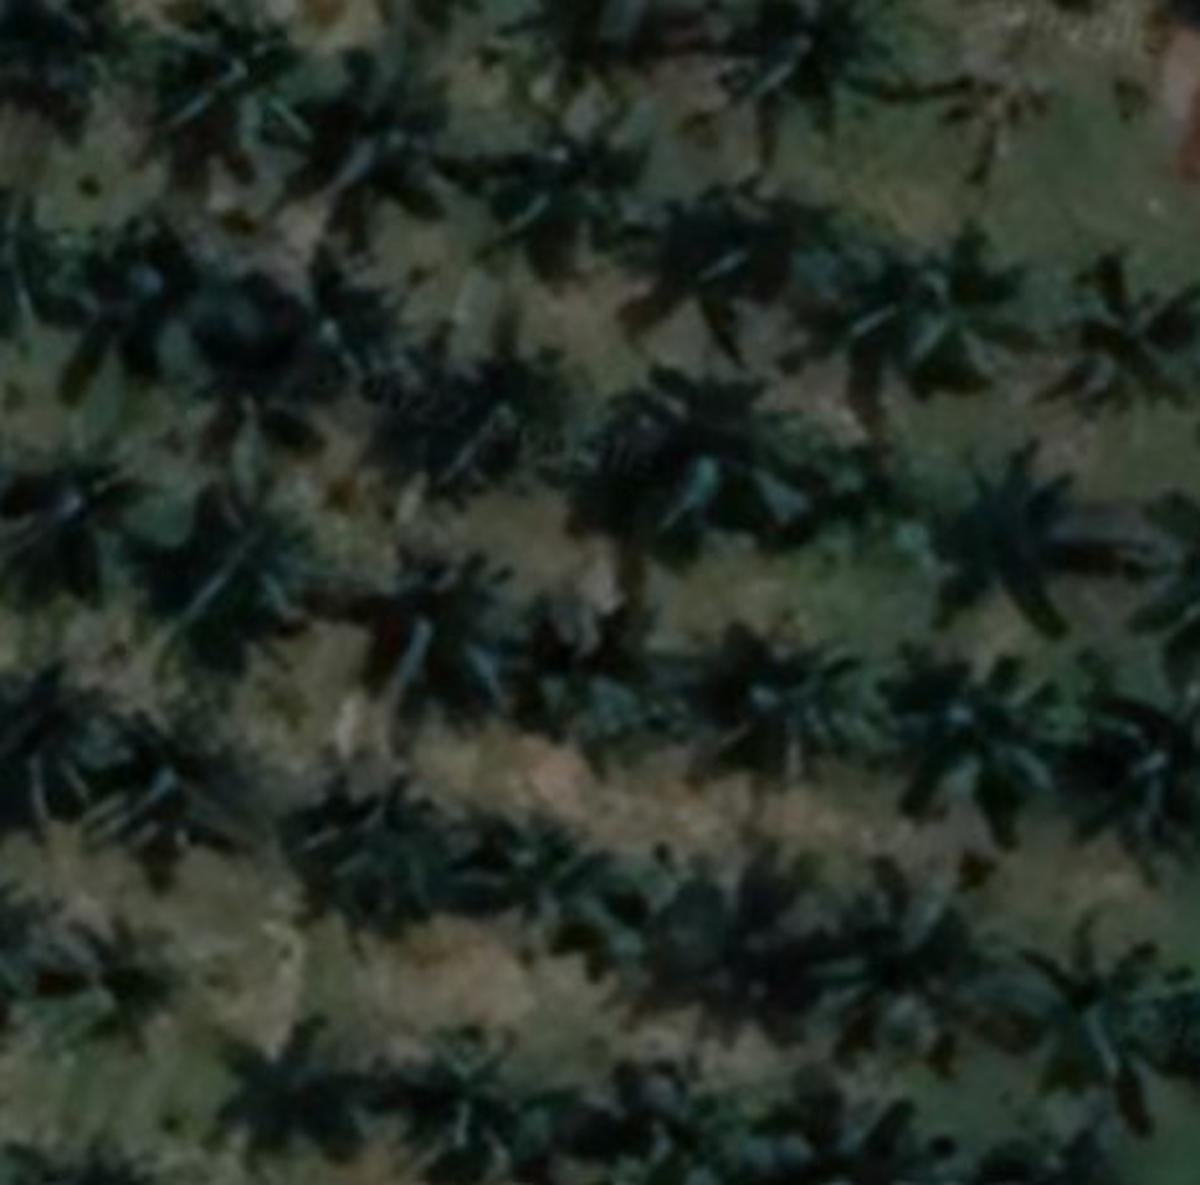coconut: (805, 838, 979, 1052), (635, 366, 830, 551), (687, 160, 888, 337), (917, 438, 1094, 630), (153, 492, 343, 657), (107, 700, 269, 884), (484, 100, 638, 284), (717, 620, 879, 795), (371, 543, 523, 715), (889, 220, 1054, 379), (464, 800, 615, 972), (1030, 913, 1174, 1090), (923, 638, 1061, 820), (323, 46, 461, 228), (528, 589, 671, 761), (5, 651, 130, 843), (1074, 243, 1200, 430), (164, 17, 302, 179), (174, 346, 320, 489), (10, 453, 125, 607), (405, 1023, 523, 1156), (2, 877, 97, 1020)
